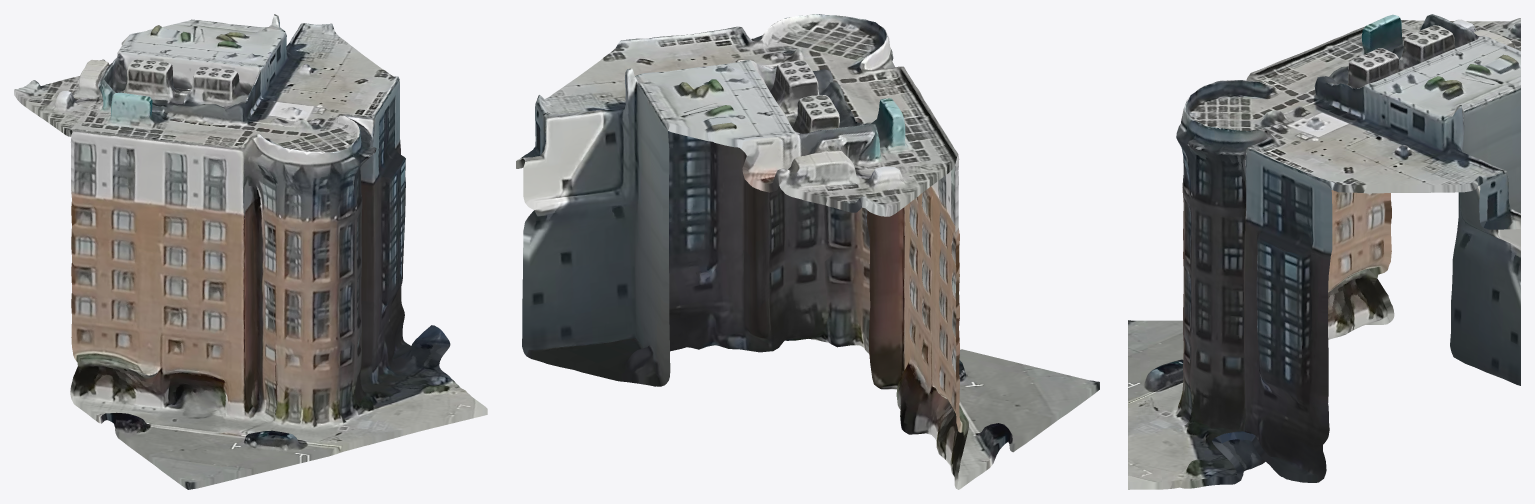
File: z20-167792-405227-h0-yup-uvflip-v3-world.glb
3 views of the same model, side by side, from view 1: azimuth 30°, elevation 25°; view 2: azimuth 150°, elevation 25°; view 3: azimuth 270°, elevation 25° (orthographic). The views are drawn at different scales.
Size of the model in its own units: 30.16 by 30 by 30.32.
Materials: 1 (1 with a texture image).
